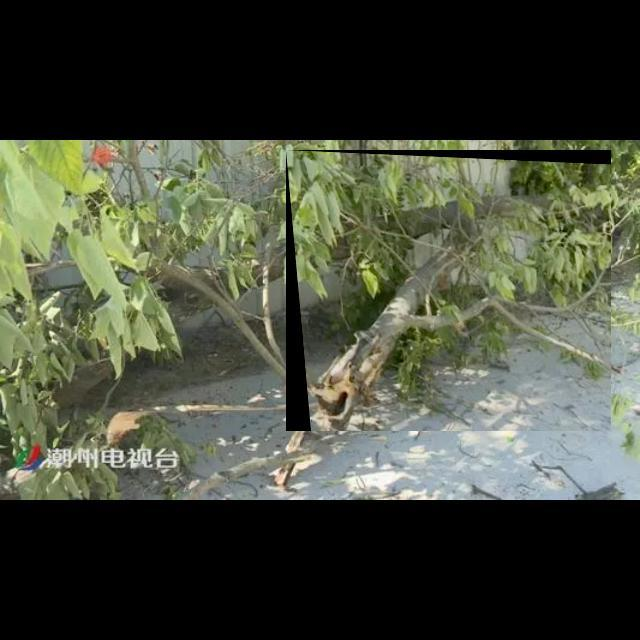fallen_tree: (286, 150, 612, 432)
